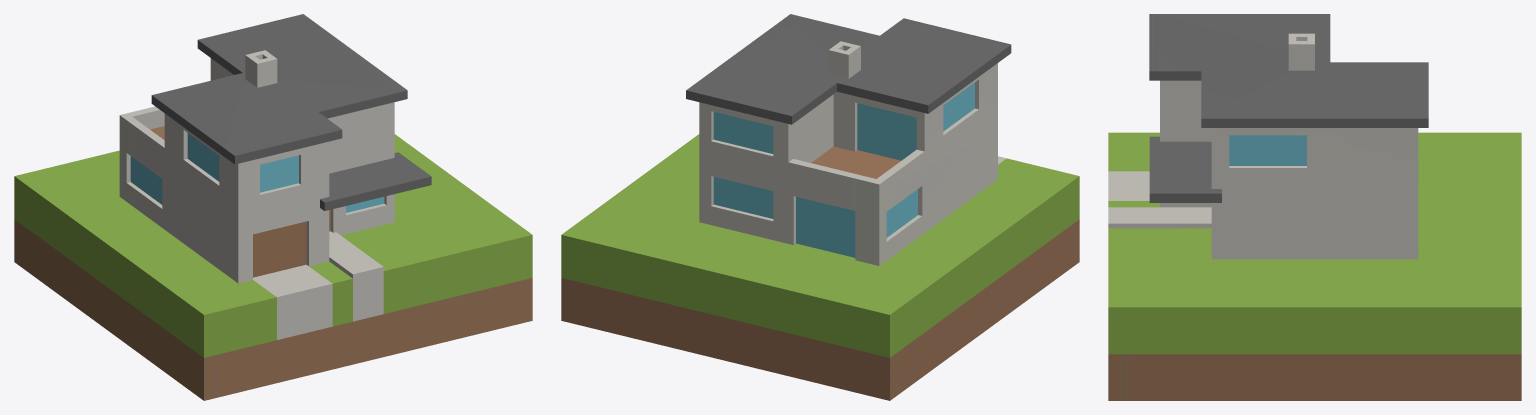
File: building-house4.obj
3 views of the same model, side by side, from view 1: azimuth 30°, elevation 25°; view 2: azimuth 150°, elevation 25°; view 3: azimuth 270°, elevation 25° (orthographic). The views are drawn at different scales.
Parts seen in each view (by area): view 1: house-modern_Cube.037; view 2: house-modern_Cube.037; view 3: house-modern_Cube.037.
Boxes of the visible parts, box(x1,y1,x2,y2) form: house-modern_Cube.037: box(14, 14, 532, 400); house-modern_Cube.037: box(561, 14, 1079, 400); house-modern_Cube.037: box(1108, 14, 1521, 400).
Bounding box in the file's own units: 8 × 5.66 × 8.
